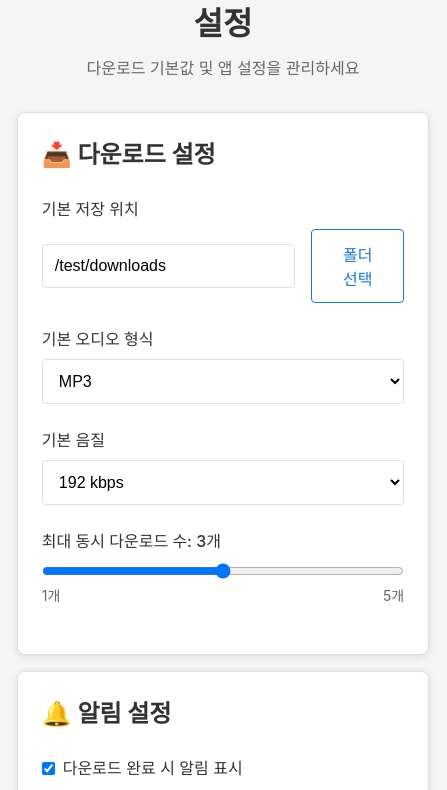
Scenario: Task 4.3 SettingsView UI Functionality › Real-time Settings Validation › should show validation failure error
Select "WAV" in the dropdown labelled "기본 오디오 형식". click: {"x": 223, "y": 382}
box: [42, 359, 404, 404]
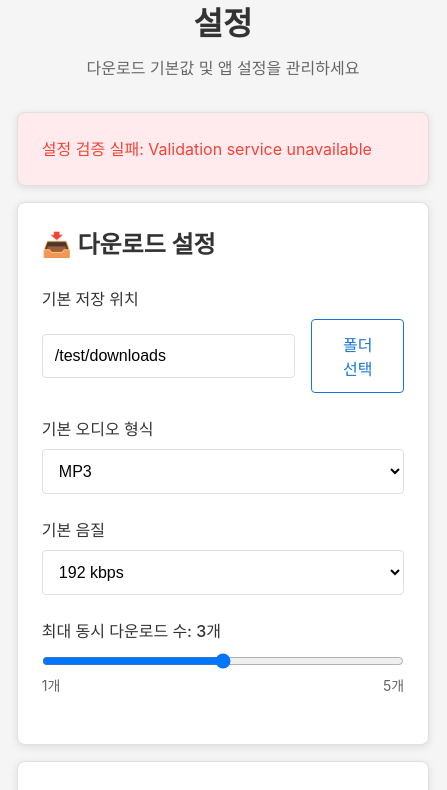
Expected: the text "설정 검증 실패: Validation service unavailable" is shown, [17, 112, 429, 186]
